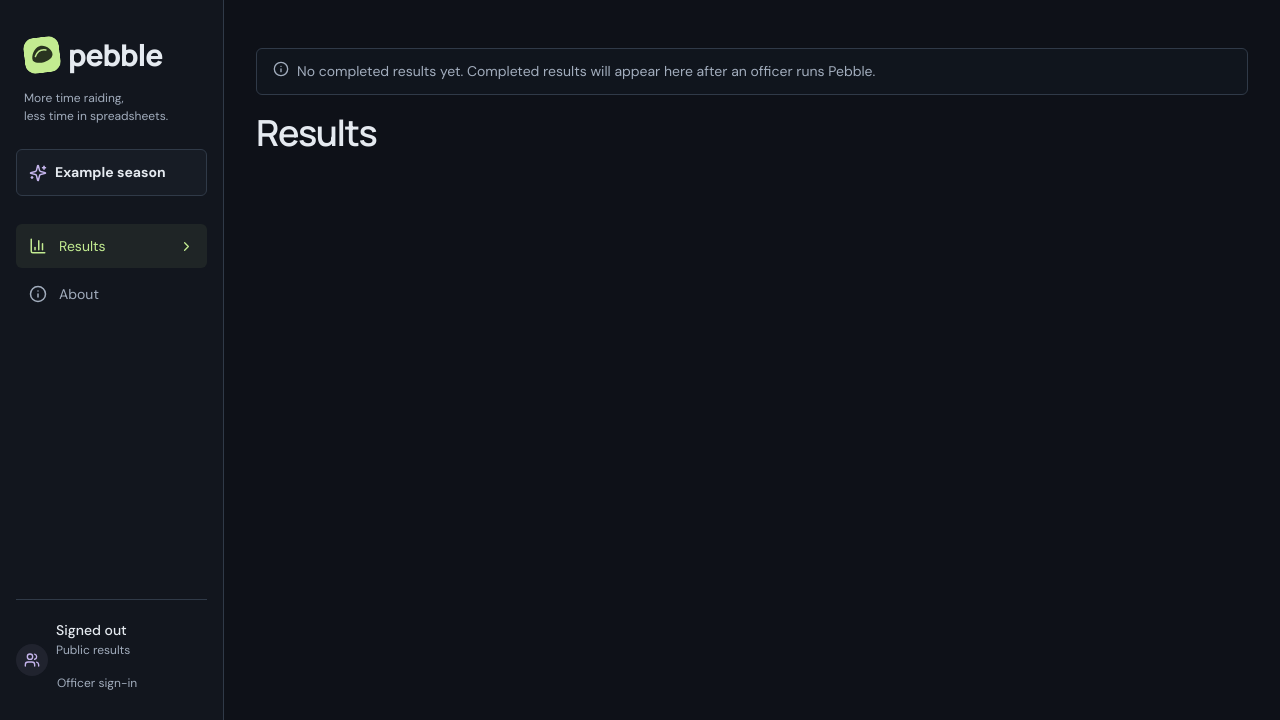
Test: recovers from auth/popup-blocked without displaying an SDK payload
The width and height of the screenshot is (1280, 720).
Click the button "Officer sign-in" at point(97, 684), box [56,667,138,700]
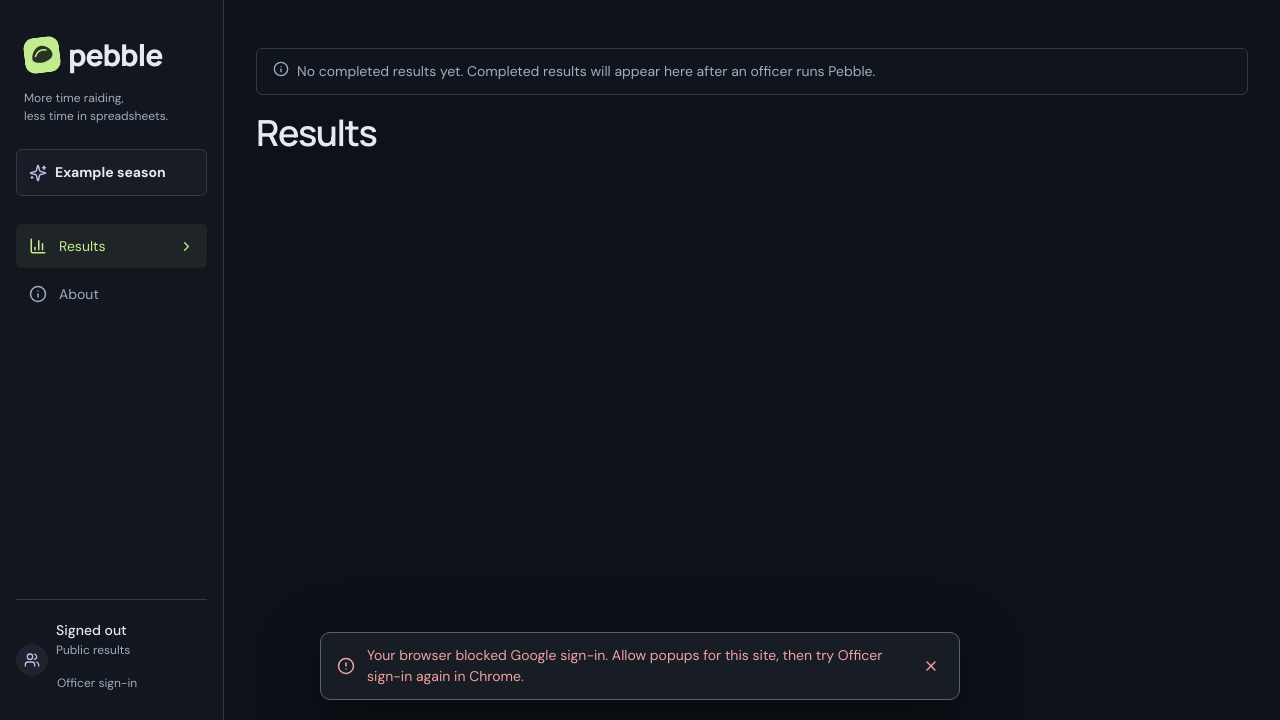
expect the text "browser blocked Google sign-in" is shown: met, box [367,646,882,685]
